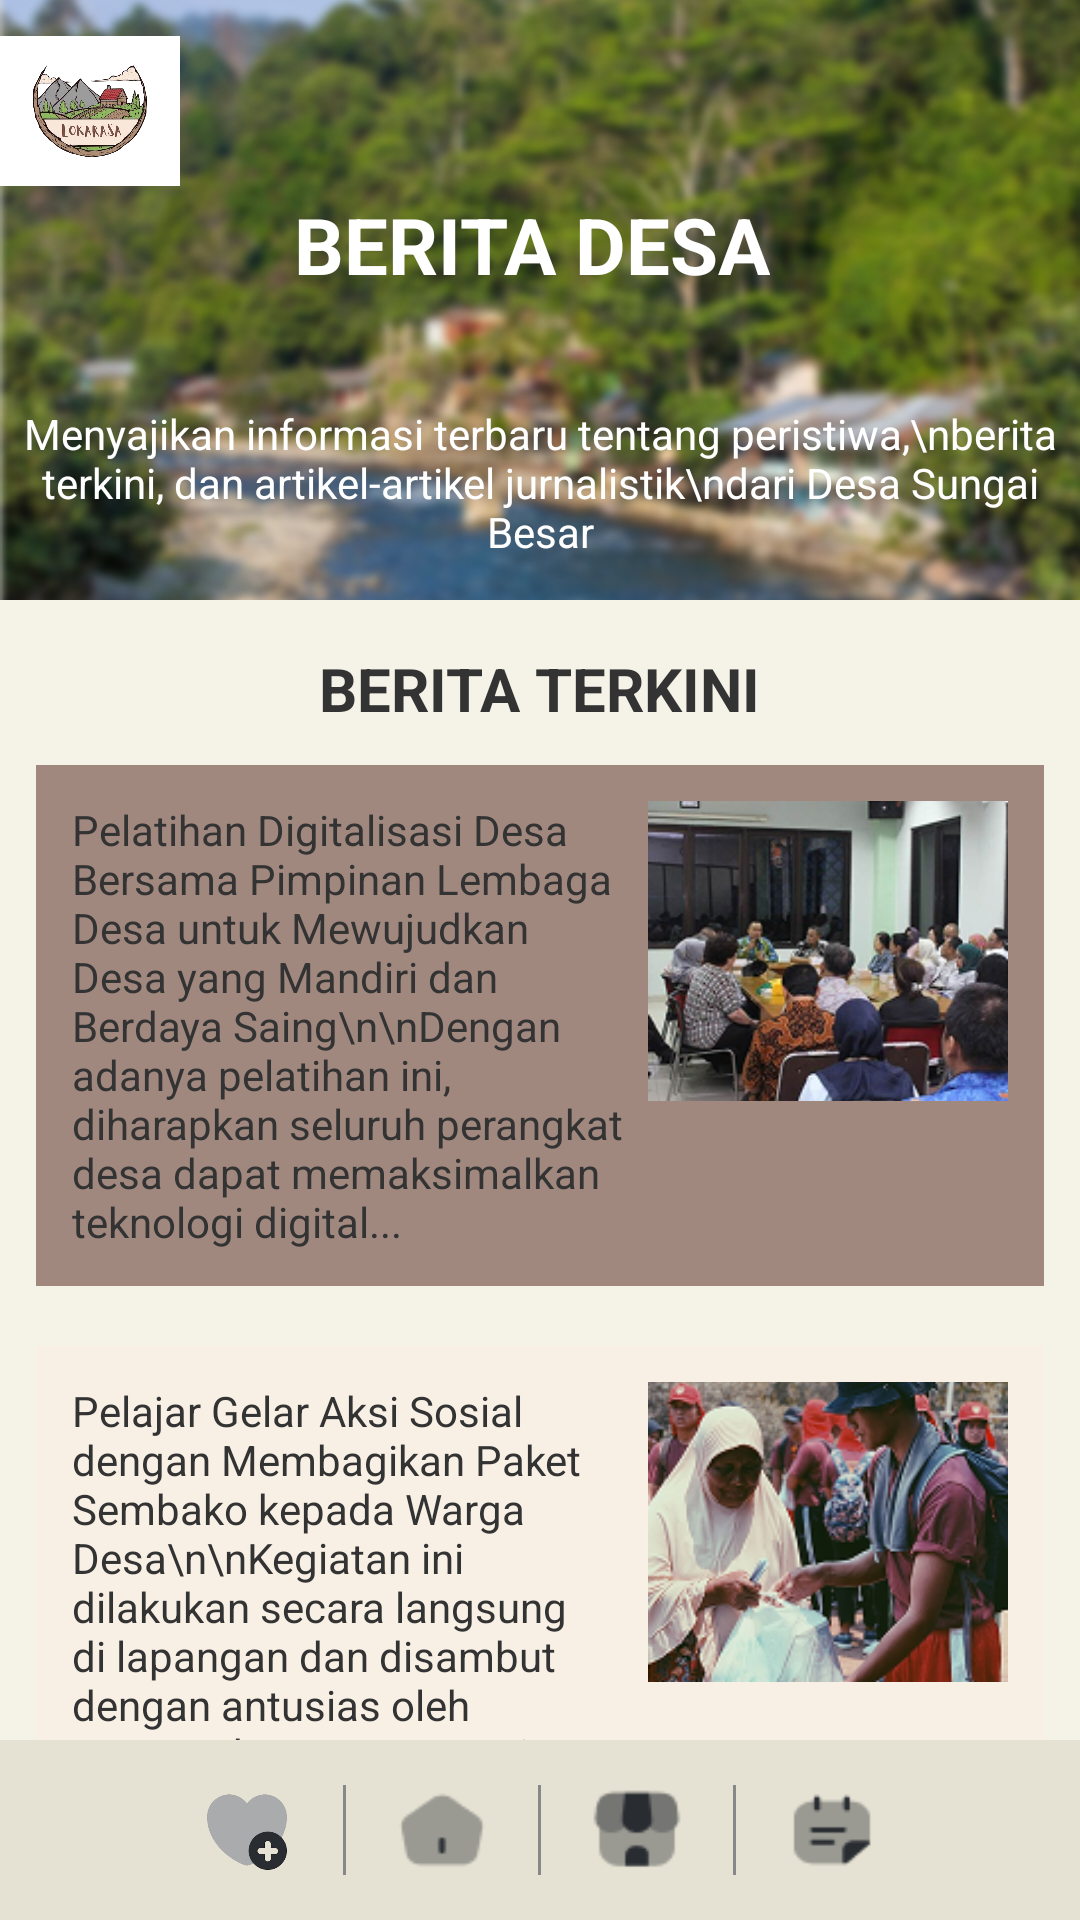

Named icons in this screenshot (1080x1920) and their bounding boxes, (x1, y1, x2, y2):
Catatan: (794, 1795, 871, 1865)
Favorit: (207, 1794, 287, 1870)
Home: (401, 1795, 483, 1865)
Shop: (594, 1791, 680, 1867)
